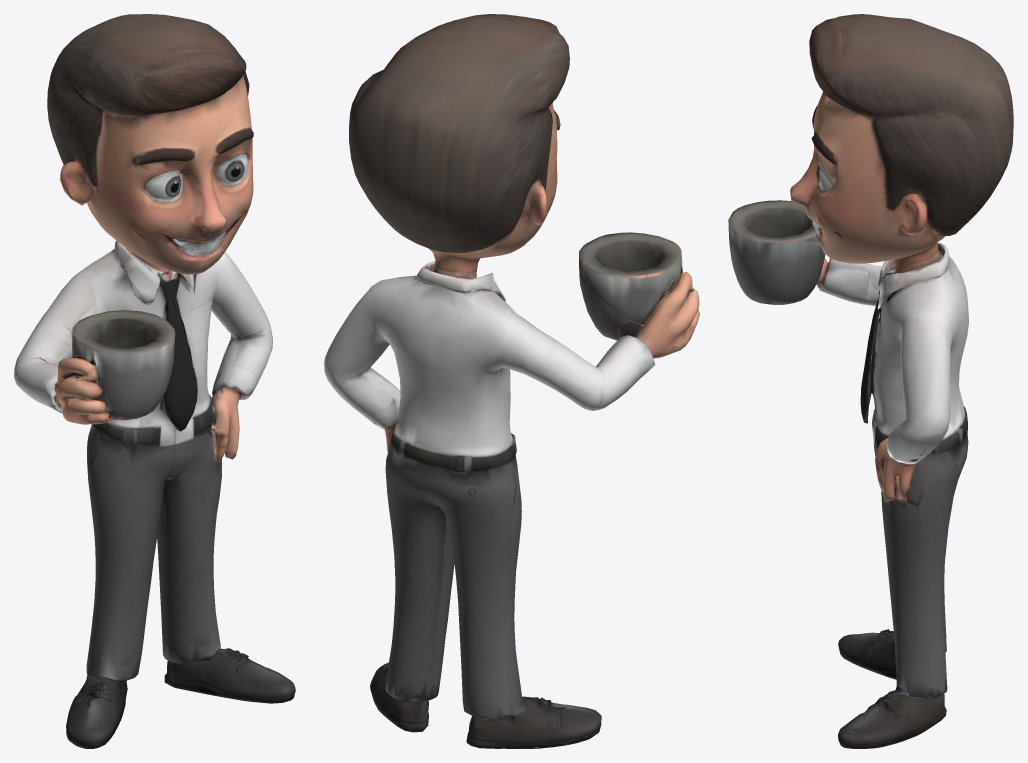
The model's file is Businessman_with_Coff_0526083508_texture.glb.
3 views of the same model, side by side, from view 1: azimuth 30°, elevation 25°; view 2: azimuth 150°, elevation 25°; view 3: azimuth 270°, elevation 25° (orthographic). The views are drawn at different scales.
Bounding box in the file's own units: 0.8784 × 2 × 0.7783.
Materials: 1 (1 with a texture image).
